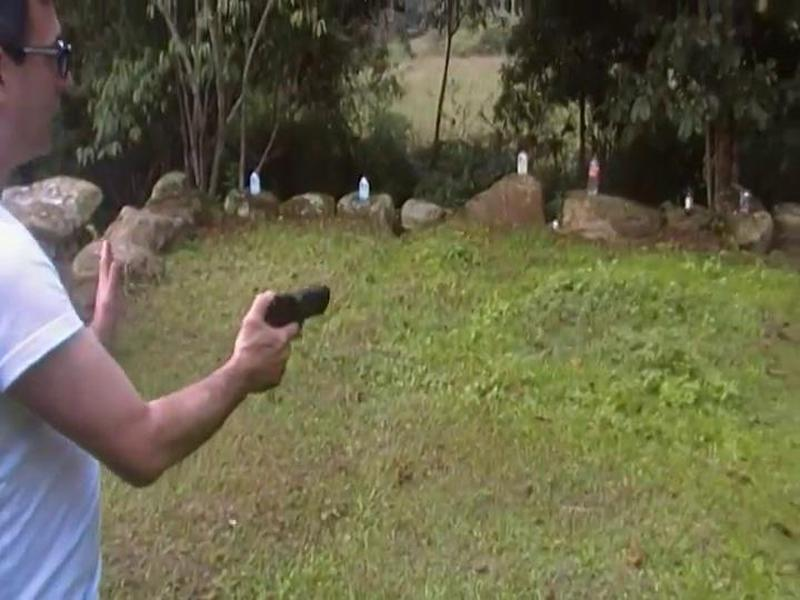Pistola: (250, 274, 337, 349)
